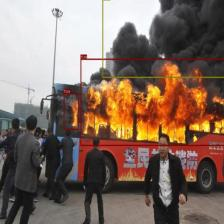fire: (80, 58, 224, 146), (64, 93, 78, 130)
smoke: (102, 0, 224, 77)
